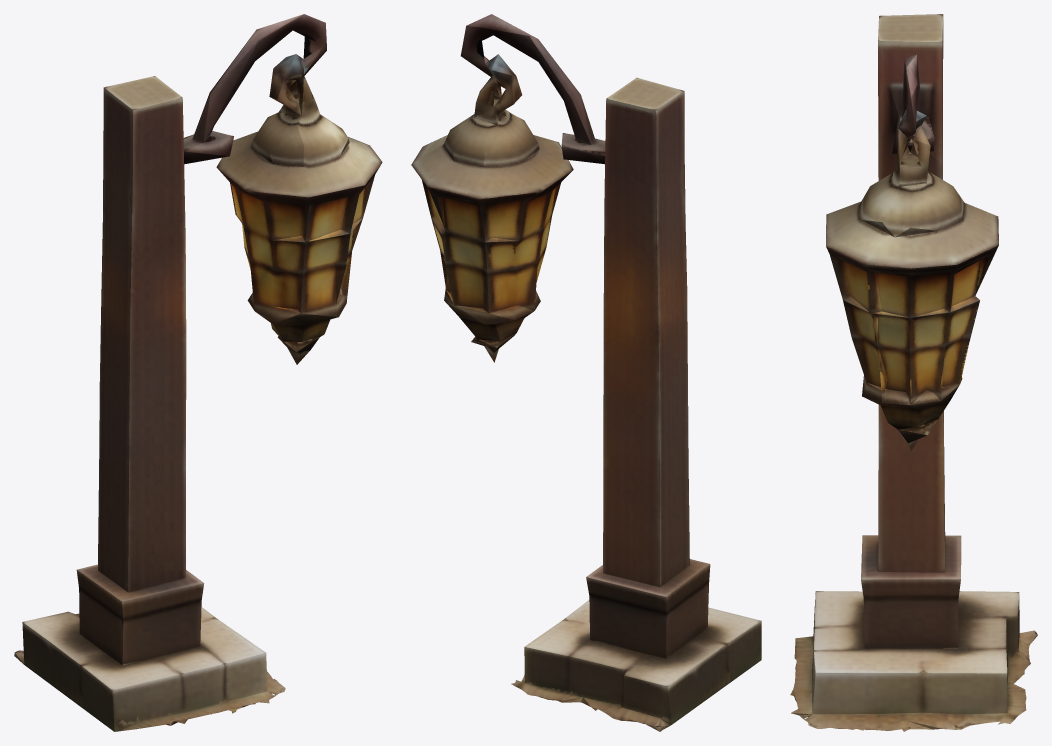
The model's file is trial_img3d_prop.glb.
3 renders of one model, left to right at view 1: azimuth 30°, elevation 25°; view 2: azimuth 150°, elevation 25°; view 3: azimuth 270°, elevation 25°, orthographic. The views are drawn at different scales.
Visible parts, largest first — view 1: trial_img3d; view 2: trial_img3d; view 3: trial_img3d.
Part boxes in pixels (x1,y1,x2,y2): trial_img3d: (14, 14, 382, 731); trial_img3d: (411, 14, 761, 731); trial_img3d: (790, 14, 1037, 731).
Size of the model in its own units: 1.3 by 2.61 by 0.8404.
Materials: 1 (1 with a texture image).
